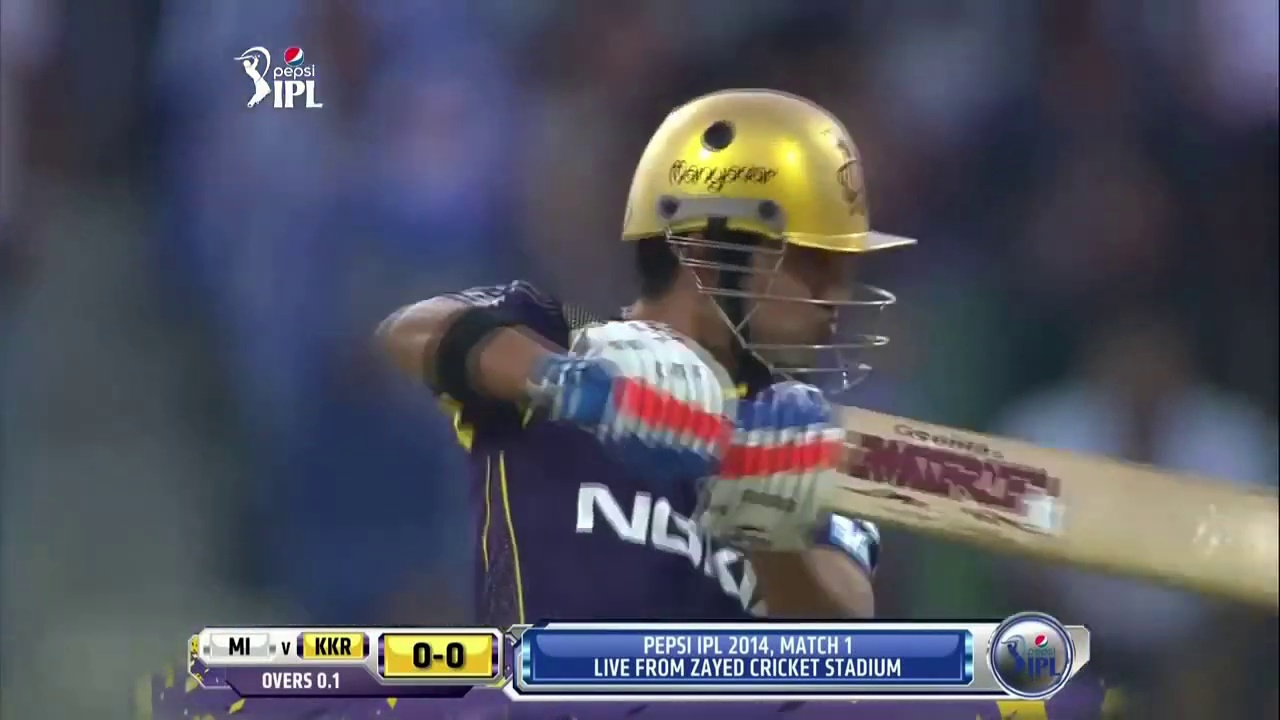bat: (846, 401, 1278, 609)
